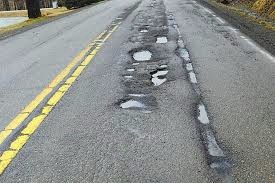pothole: (198, 125, 222, 154), (192, 97, 211, 123), (115, 95, 147, 109), (148, 66, 167, 86), (127, 49, 151, 61), (174, 47, 198, 59), (209, 160, 231, 168), (185, 70, 198, 82), (182, 61, 196, 71), (154, 33, 167, 43), (174, 38, 185, 48), (136, 25, 147, 31), (120, 73, 131, 79), (125, 66, 136, 70)
